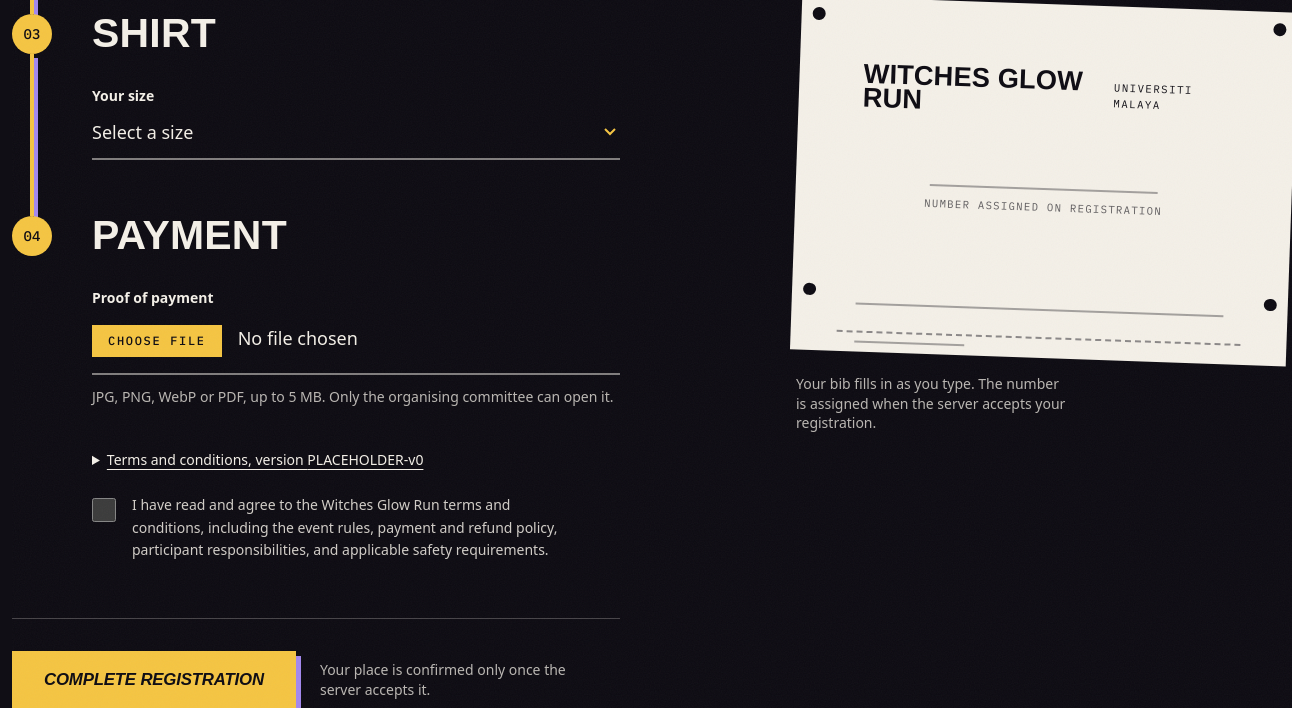
Test: registration form › reports every missing required field rather than only the first
The width and height of the screenshot is (1292, 708).
(page scrolled)
Click the button "Complete registration" at (154,680), box x1=12 y1=651 x2=296 y2=707
(page scrolled)
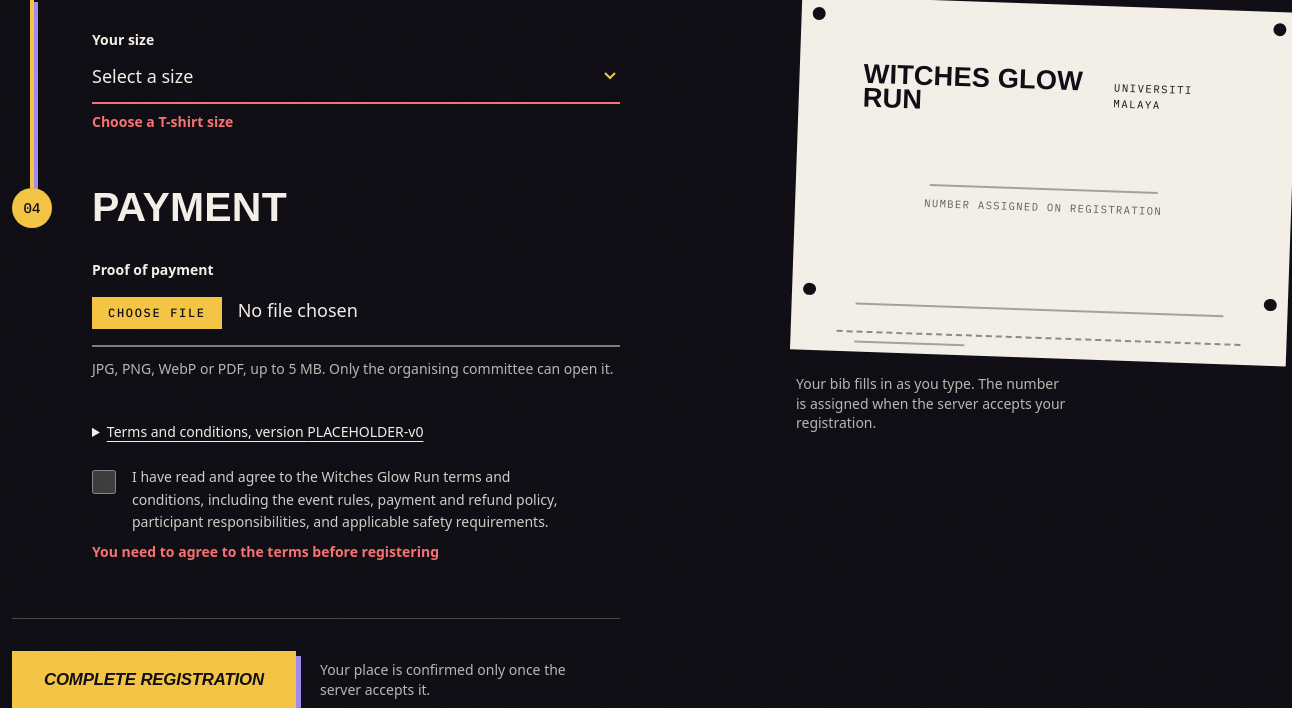
Check: the text "You need to agree to the terms before registering" is shown, box x1=92 y1=542 x2=439 y2=561
